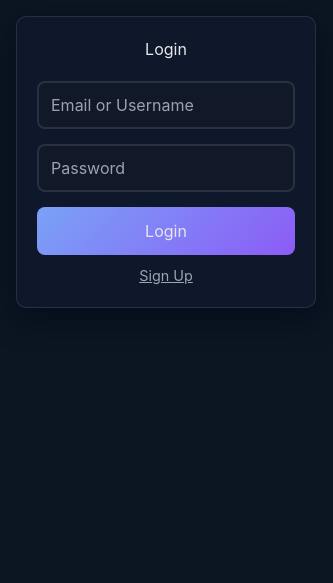
Test: Profile Component › Signup View › checks username availability on input
Click the button with test id "switch-to-signup" at (166, 271), box [37,255,295,287]
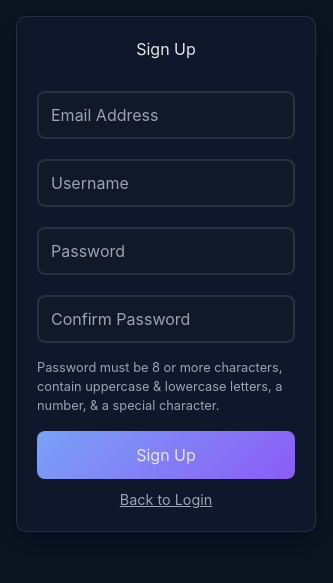
Type "takenuser" into the field with test id "signup-username-input" at (166, 183), box [37,159,295,207]
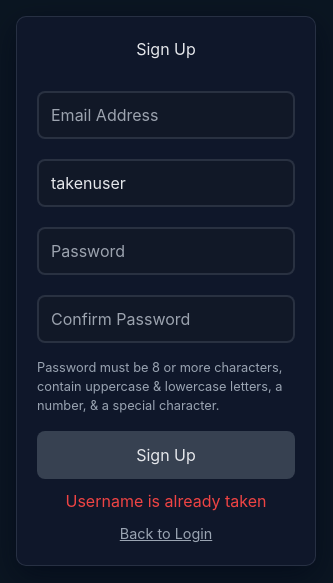
expect the text "Username is already taken" is shown: met, box [66,491,266,511]
